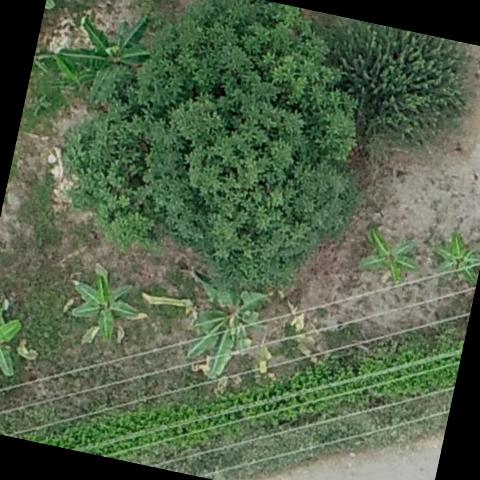Banana-plant: (51, 0, 173, 111), (170, 268, 278, 391), (56, 256, 158, 355), (20, 42, 98, 130), (352, 224, 420, 292), (425, 222, 480, 287), (0, 298, 27, 382)
